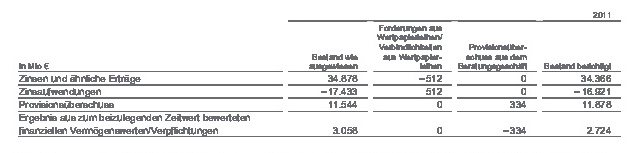table: (0, 0, 641, 153)
